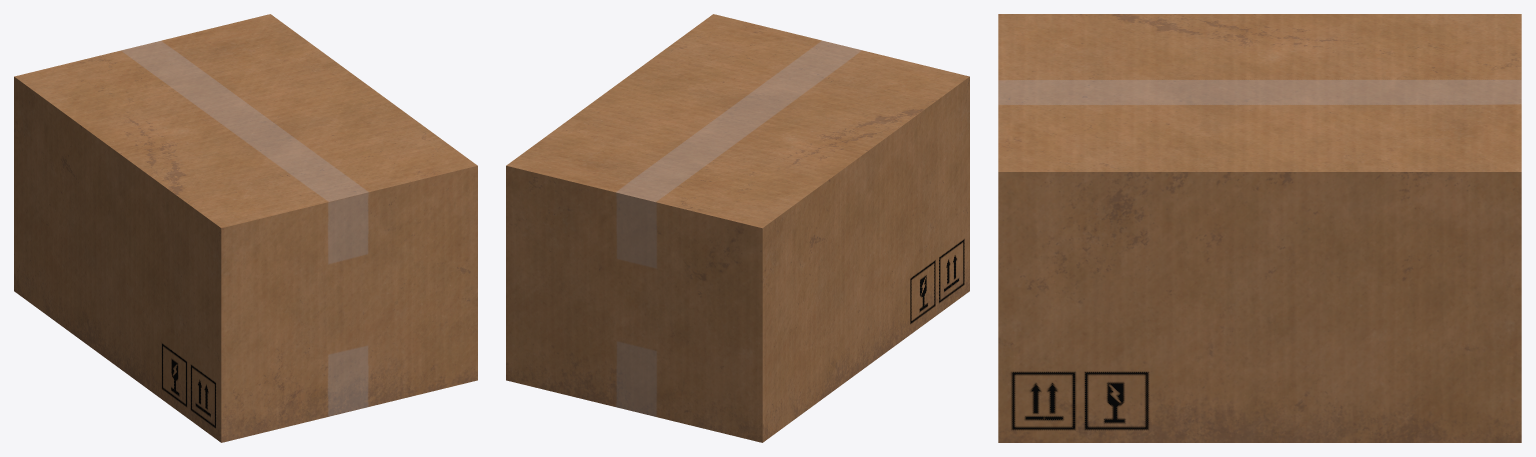
File: Box Medium.glb
3 views of the same model, side by side, from view 1: azimuth 30°, elevation 25°; view 2: azimuth 150°, elevation 25°; view 3: azimuth 270°, elevation 25° (orthographic). The views are drawn at different scales.
Visible parts, largest first — view 1: Medium Box; view 2: Medium Box; view 3: Medium Box.
Part boxes in pixels (x1,y1,x2,y2): Medium Box: (14, 14, 477, 442); Medium Box: (506, 14, 969, 442); Medium Box: (998, 14, 1521, 442).
Size of the model in its own units: 0.25 by 0.2 by 0.35.
Materials: 1 (1 with a texture image).
